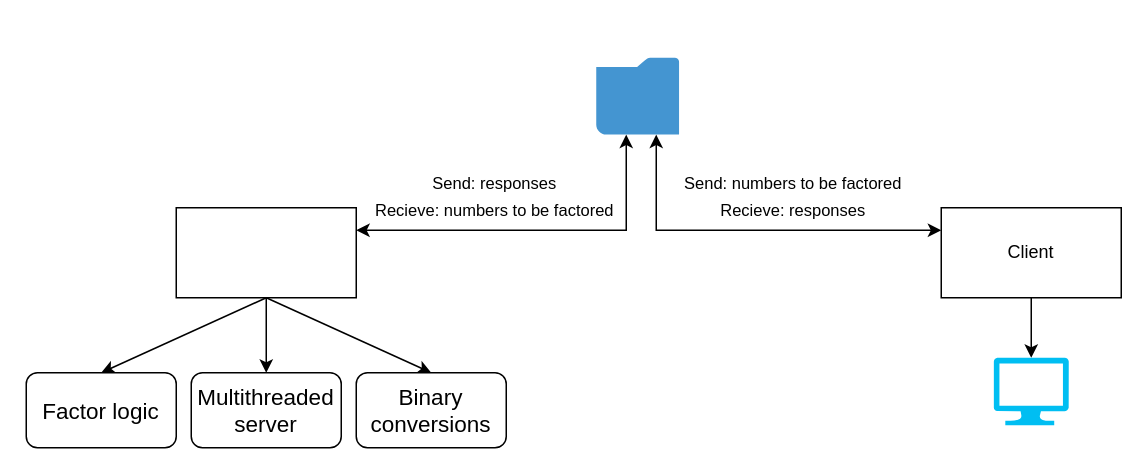
This 1148x474 diagram has some shape labels left out. Each missing label, with the centre of its shape:
Server: the point at 265,252
Shared Memory: the point at 637,95
